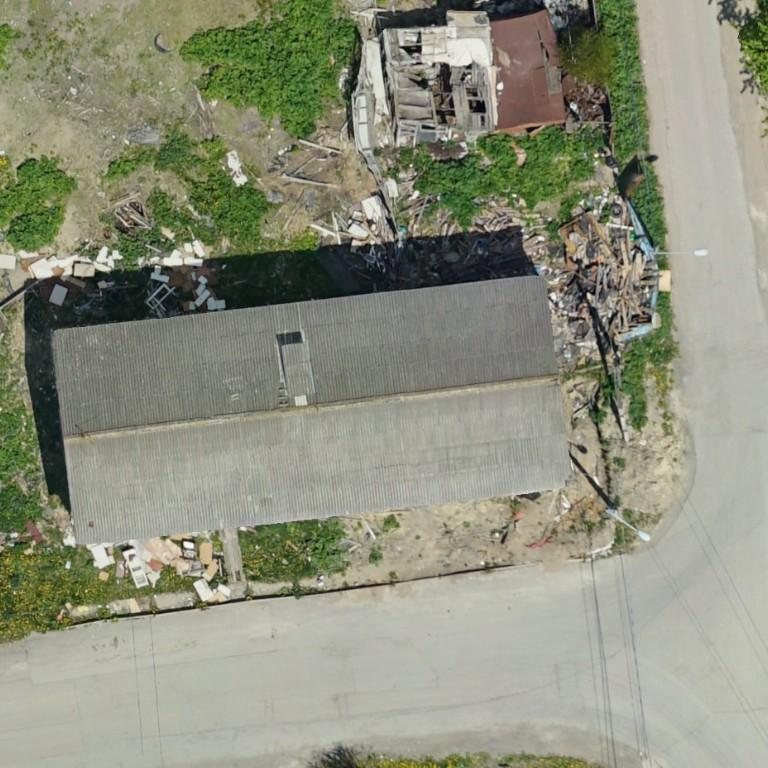hogweed: (181, 0, 354, 138), (420, 126, 588, 222), (0, 156, 77, 251), (193, 171, 271, 241), (622, 336, 666, 424), (150, 189, 216, 242), (0, 488, 40, 531), (311, 537, 342, 567), (158, 138, 190, 166)
